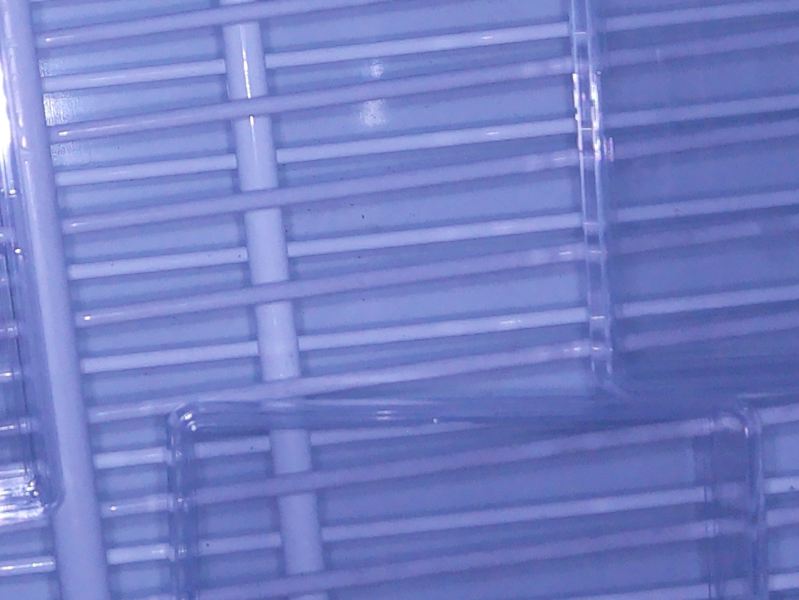plate: (163, 399, 766, 600), (567, 1, 799, 407), (1, 164, 71, 534)
